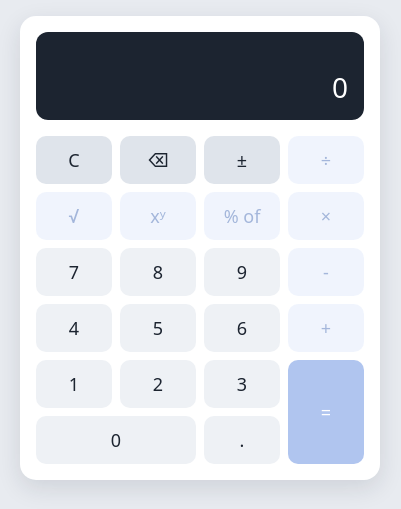
Test case: Calculator keypad › chooses an operator with the Subtract button
What coordinates should you click on to do the following:
click the button "1"
I would click on:
 (74, 384)
Its box is [36,360,112,408].
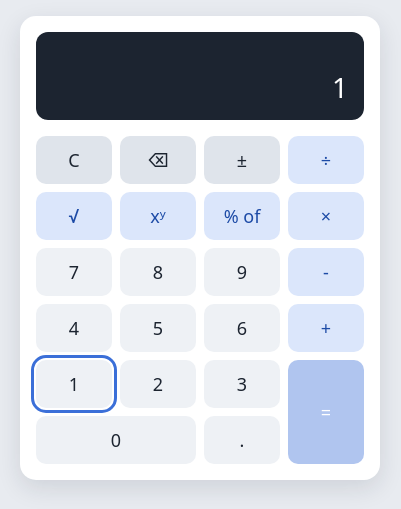
What coordinates should you click on to do the following:
click the button "2"
I would click on:
 (158, 384)
Its box is [120,360,196,408].
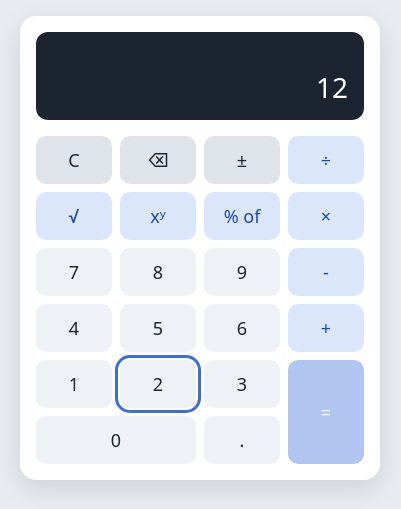
What coordinates should you click on to do the following:
click the button named "Subtract"
I would click on:
 (326, 272)
Its box is [288,248,364,296].
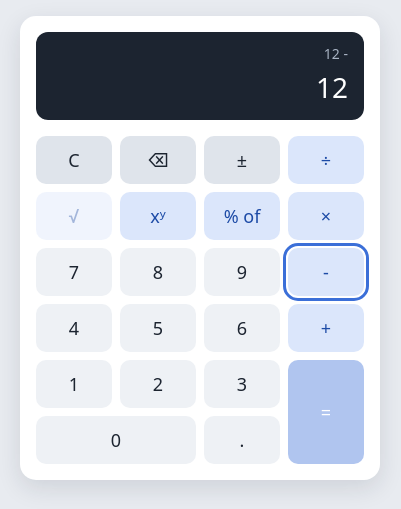
Expected: the text "12 -" is shown, [324,44,348,63]
